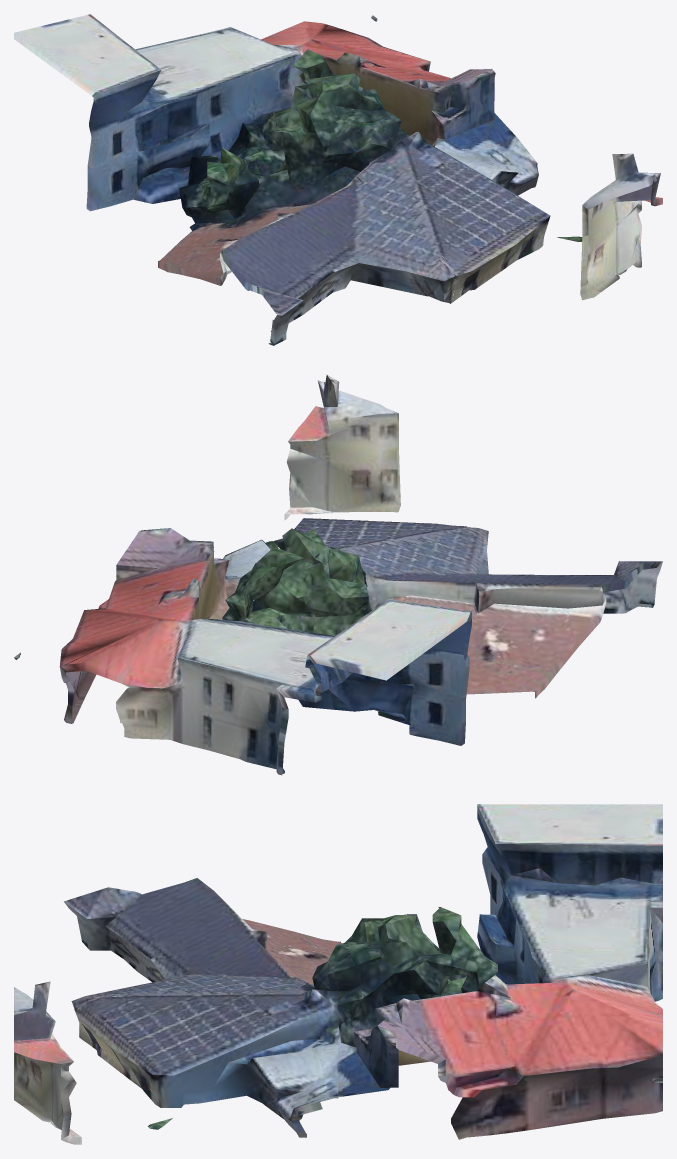
The picture shows the model from 3 angles, top to bottom: view 1: azimuth 30°, elevation 25°; view 2: azimuth 150°, elevation 25°; view 3: azimuth 270°, elevation 25°; orthographic projection. The views are drawn at different scales.
Visible parts, largest first — view 1: 30436272704361604714_0; view 2: 30436272704361604714_0; view 3: 30436272704361604714_0.
Boxes of the visible parts, <box> form: 30436272704361604714_0: <box>14,14,662,345</box>; 30436272704361604714_0: <box>14,375,662,775</box>; 30436272704361604714_0: <box>14,804,662,1144</box>.
Size of the model in its own units: 27.62 by 9.55 by 38.26.
1 material, 1 textured.
